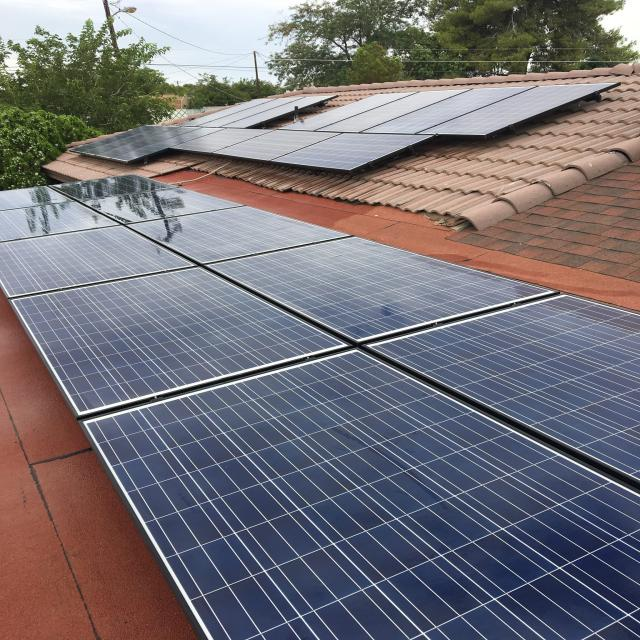clean-solar-panel: (83, 351, 638, 640)
